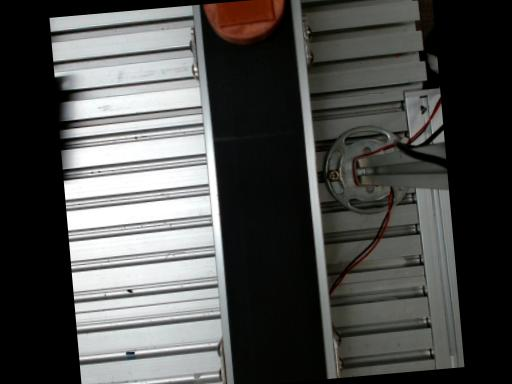Brown_Waper: (202, 0, 283, 44)
Not_Square: (213, 0, 274, 28)
